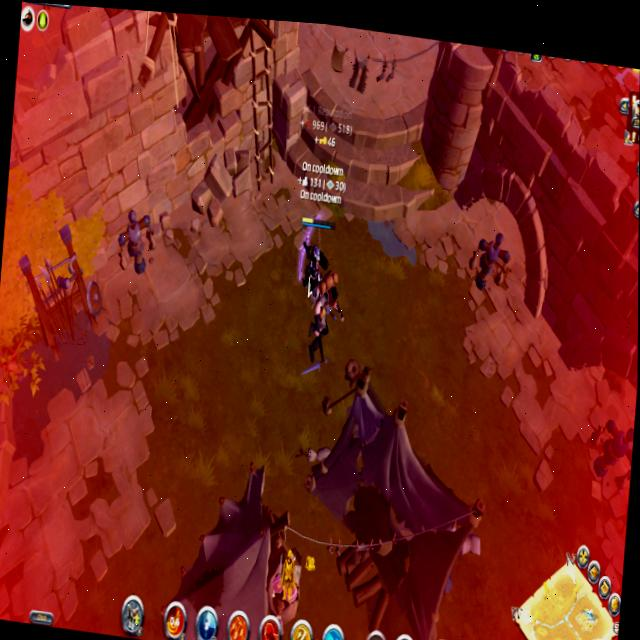red: (289, 210, 336, 298)
